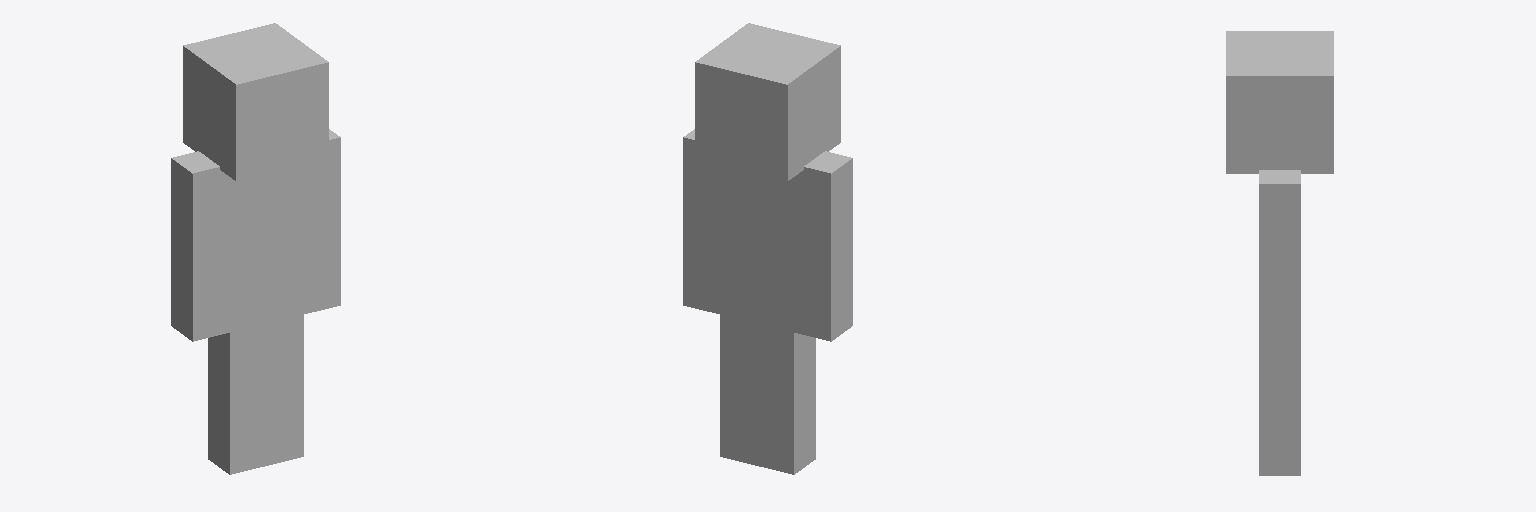
File: shamblingHuskModel.obj
3 views of the same model, side by side, from view 1: azimuth 30°, elevation 25°; view 2: azimuth 150°, elevation 25°; view 3: azimuth 270°, elevation 25° (orthographic).
Visible parts, largest first — view 1: Hair, handRight, armRight, lowerBody, footRight, legRight, uperBody, legLeft, handLeft, footLeft, armLeft; view 2: Hair, handRight, armRight, lowerBody, footRight, legRight, uperBody, legLeft, handLeft, footLeft, armLeft; view 3: Hair, armLeft, handLeft, footLeft, legLeft.
Part boxes in pixels (x1,y1,x2,y2): Hair: (183, 23, 328, 181); handRight: (171, 236, 229, 341); armRight: (171, 151, 229, 250); lowerBody: (230, 224, 303, 306); footRight: (208, 382, 266, 474); legRight: (208, 298, 266, 396); uperBody: (230, 165, 303, 241); legLeft: (267, 289, 303, 387); handLeft: (304, 215, 340, 313); footLeft: (267, 379, 303, 465); armLeft: (304, 129, 340, 223); Hair: (695, 23, 840, 181); handRight: (794, 236, 852, 341); armRight: (794, 151, 852, 250); lowerBody: (720, 224, 793, 306); footRight: (757, 382, 815, 474); legRight: (757, 298, 815, 396); uperBody: (720, 165, 793, 241); legLeft: (720, 289, 756, 387); handLeft: (683, 215, 719, 313); footLeft: (720, 379, 756, 465); armLeft: (683, 129, 719, 223); Hair: (1226, 31, 1333, 173); armLeft: (1259, 170, 1300, 260); handLeft: (1259, 261, 1300, 351); footLeft: (1259, 399, 1300, 475); legLeft: (1259, 352, 1300, 398).
Bounding box in the file's own units: 0.75 × 1.95 × 0.4688.